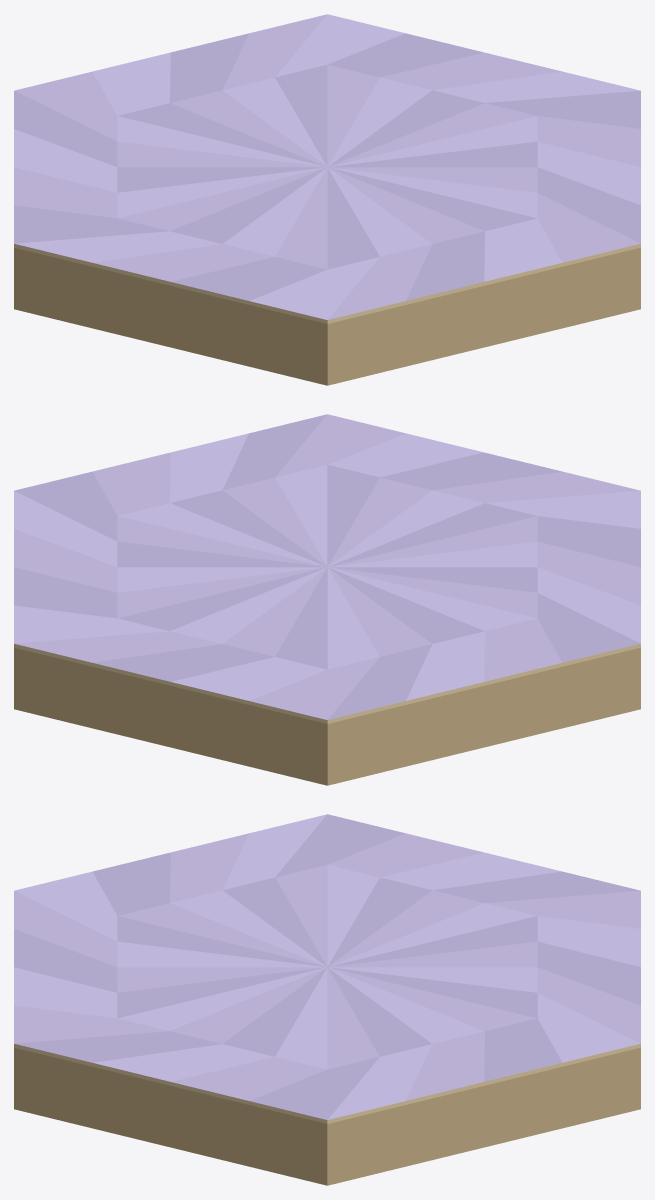
File: terrain.glb
3 renders of one model, top to bottom at view 1: azimuth 30°, elevation 25°; view 2: azimuth 150°, elevation 25°; view 3: azimuth 270°, elevation 25°, orthographic.
Visible parts, largest first — view 1: Tile_水晶帝国; view 2: Tile_水晶帝国; view 3: Tile_水晶帝国.
Part boxes in pixels (x1,y1,x2,y2): Tile_水晶帝国: [14, 14, 640, 385]; Tile_水晶帝国: [14, 414, 640, 785]; Tile_水晶帝国: [14, 814, 640, 1185].
Size of the model in its own units: 2 by 0.2 by 1.73.
